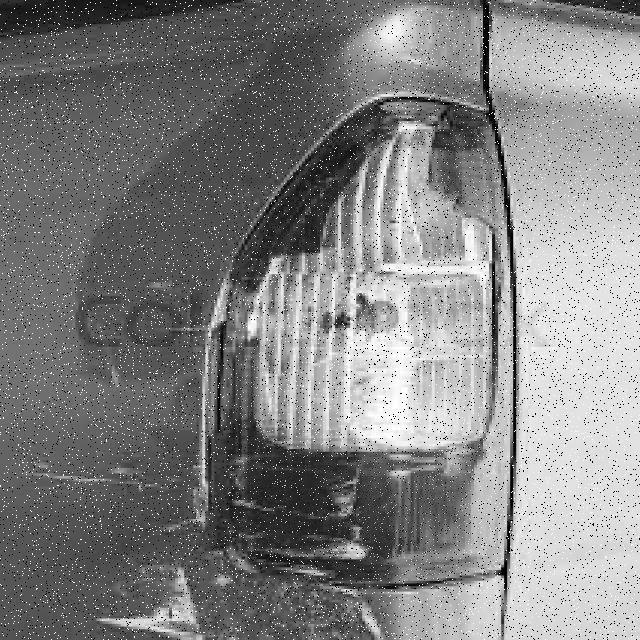Taillight-Damage: (183, 85, 542, 628)
